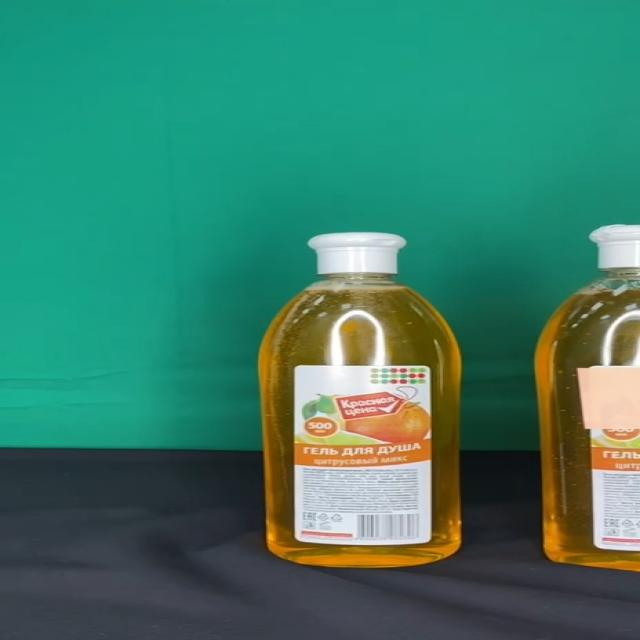Bottle: (260, 233, 462, 568)
Cap: (307, 233, 408, 275)
